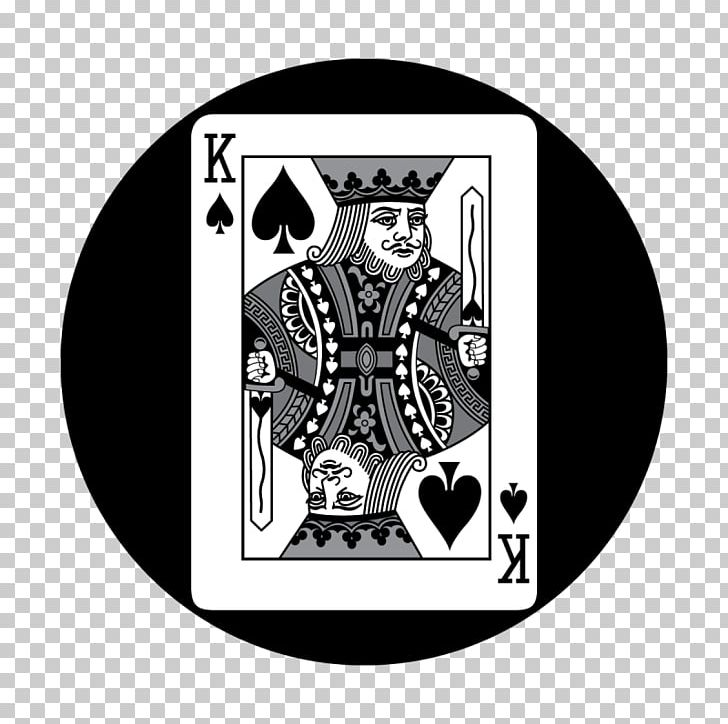king of spades: (193, 116, 539, 613)
